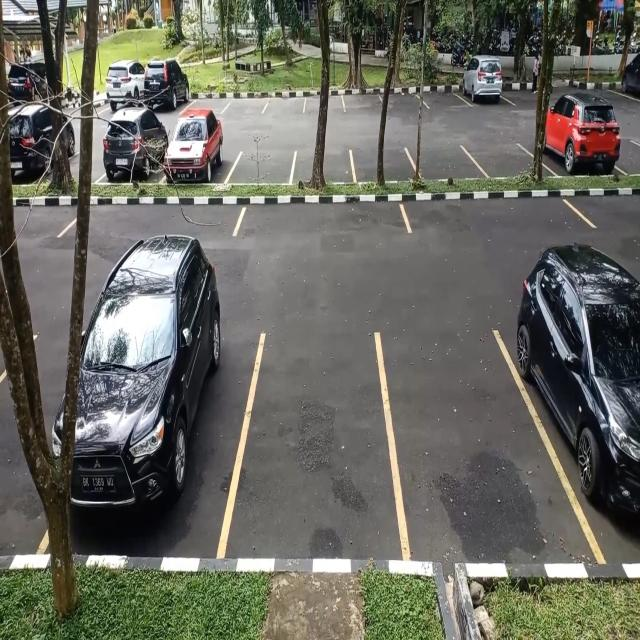empty: (240, 314, 388, 556), (386, 319, 525, 557), (405, 192, 579, 234), (236, 200, 405, 234), (229, 143, 296, 183), (413, 144, 477, 181), (293, 148, 353, 183), (477, 142, 537, 177), (352, 150, 412, 183), (421, 78, 462, 108), (303, 88, 345, 115), (343, 87, 382, 113), (223, 92, 265, 116), (265, 90, 305, 115)
occupied: (70, 309, 239, 556), (527, 295, 640, 562), (541, 100, 619, 179), (161, 119, 229, 182), (462, 66, 505, 107)
